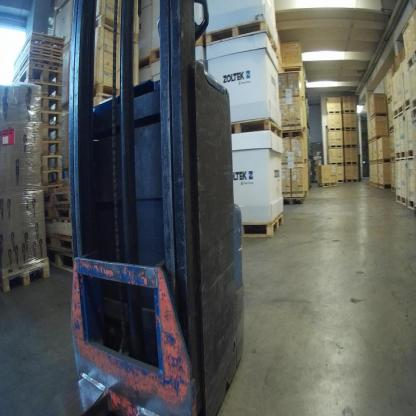pallet: (205, 21, 281, 58), (2, 256, 50, 295), (152, 32, 203, 64), (93, 13, 140, 44), (239, 209, 283, 242), (230, 119, 285, 138), (14, 65, 61, 86), (43, 232, 77, 258), (16, 81, 62, 99), (48, 249, 77, 273), (93, 85, 127, 102), (42, 206, 70, 226), (37, 94, 63, 114), (41, 191, 71, 206), (282, 189, 307, 206), (40, 139, 62, 157), (38, 154, 62, 170), (281, 126, 306, 141), (39, 112, 62, 128), (134, 57, 151, 78), (40, 170, 62, 186), (280, 62, 304, 75), (40, 127, 61, 141), (317, 179, 337, 188), (369, 111, 387, 121), (396, 193, 407, 207), (394, 103, 403, 120), (395, 148, 406, 161), (343, 177, 360, 184), (378, 156, 390, 165), (405, 97, 412, 112), (407, 198, 415, 211), (343, 126, 357, 133), (328, 126, 343, 132), (343, 144, 358, 150), (407, 150, 415, 161), (390, 183, 398, 194), (385, 97, 393, 107), (343, 108, 356, 114), (379, 183, 390, 190), (411, 108, 416, 123), (329, 162, 344, 167), (327, 109, 341, 114), (328, 145, 342, 150), (372, 134, 378, 145), (344, 161, 357, 166), (390, 155, 397, 164), (366, 160, 373, 167), (373, 159, 379, 166), (375, 184, 379, 191)
